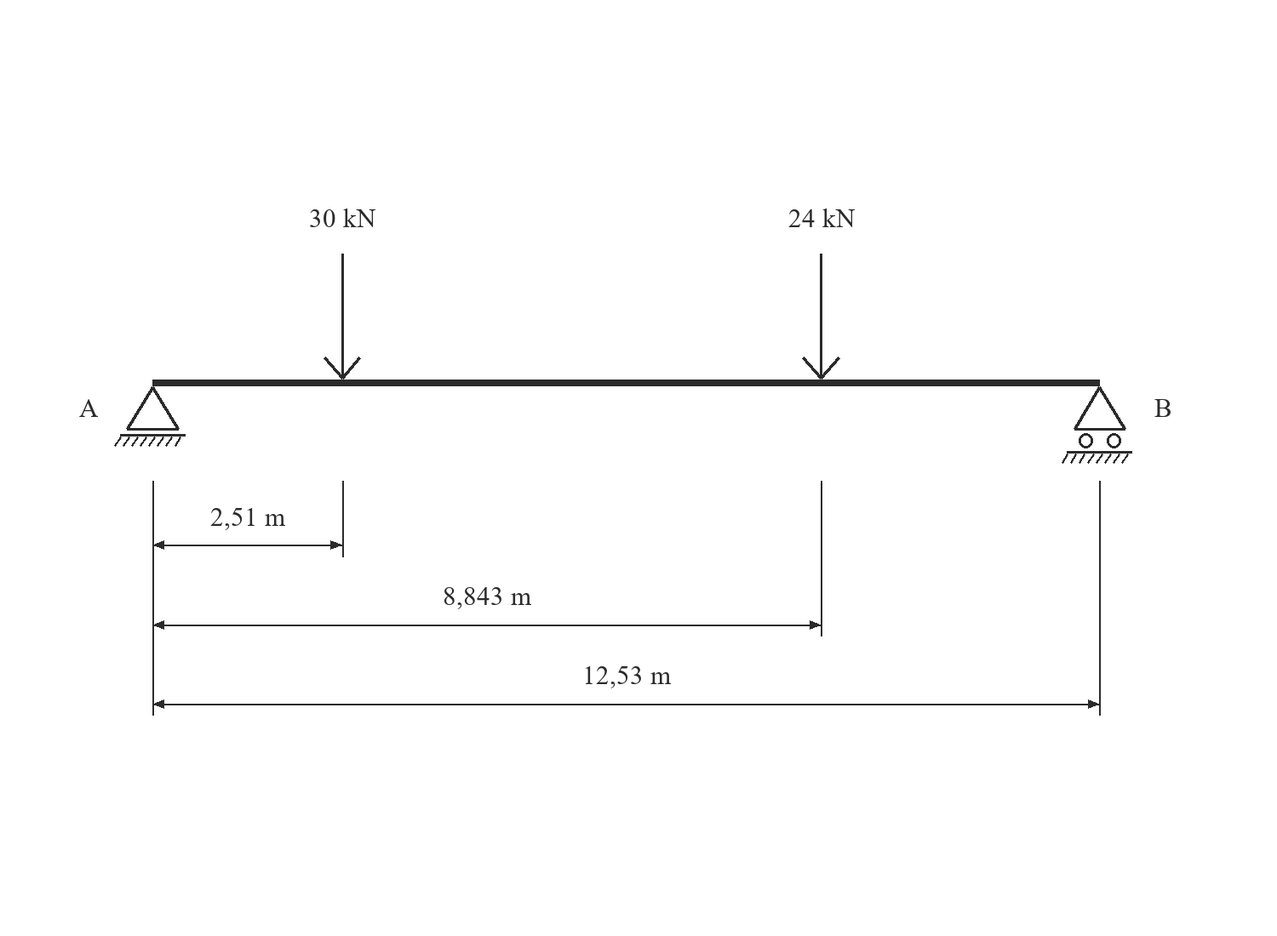pin_support: (114, 386, 186, 447)
point_load: (802, 254, 840, 380), (324, 254, 361, 380)
roller_support: (1062, 386, 1132, 464)
